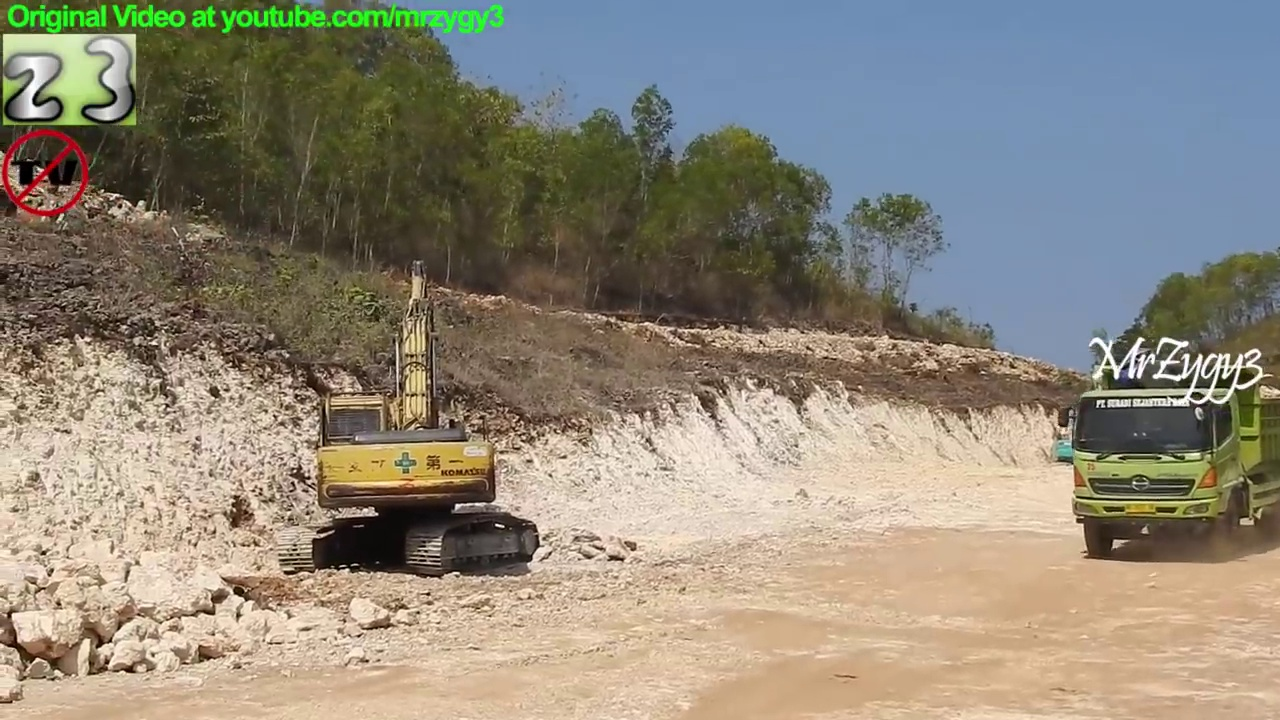excavator: (1050, 365, 1131, 476)
excavator breaker: (269, 254, 546, 581)
truck: (1055, 358, 1280, 565)
